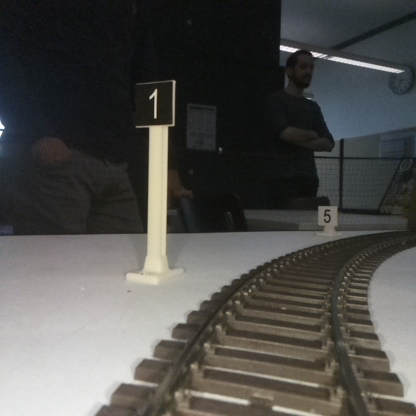black-info-1: (136, 82, 172, 280)
white-stop-5: (318, 205, 337, 235)
